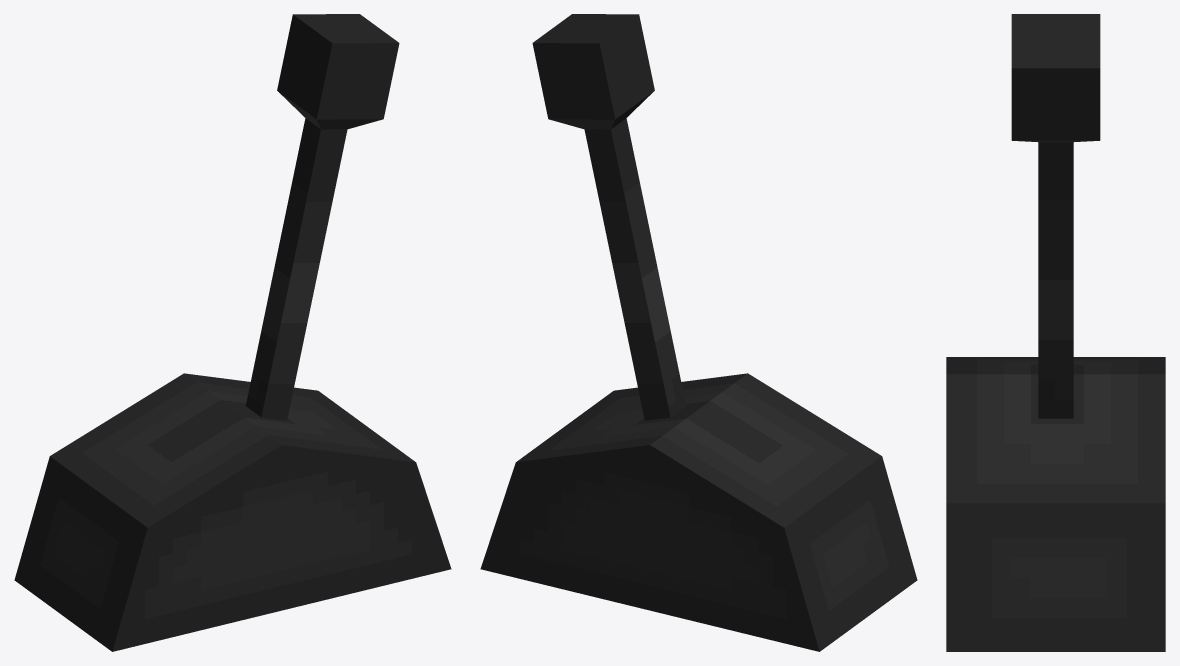
Rendered from lever0001.obj.
3 views of the same model, side by side, from view 1: azimuth 30°, elevation 25°; view 2: azimuth 150°, elevation 25°; view 3: azimuth 270°, elevation 25° (orthographic). The views are drawn at different scales.
Visible parts, largest first — view 1: Cube.018, Cube.019; view 2: Cube.018, Cube.019; view 3: Cube.018, Cube.019.
Boxes of the visible parts, x1,y1,x2,y2 form: Cube.018: (14, 373, 451, 651); Cube.019: (246, 14, 399, 420); Cube.018: (480, 373, 917, 651); Cube.019: (532, 14, 685, 420); Cube.018: (946, 357, 1165, 651); Cube.019: (1011, 14, 1100, 418).
Bounding box in the file's own units: 32 × 48.12 × 16.
